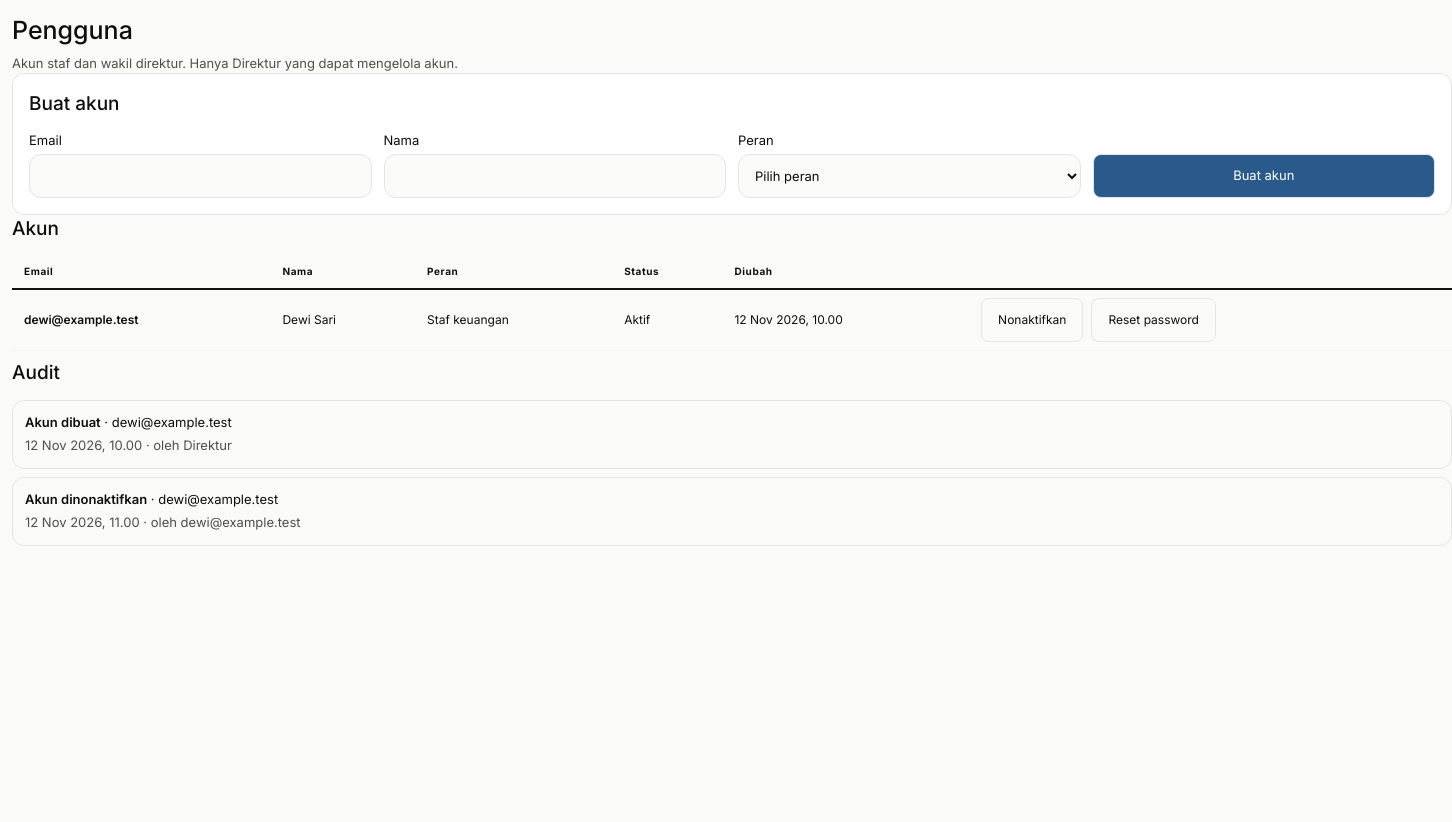
Test: user management › resets a password and shows the new temporary password once
Expected: the column heading "dewi@example.test" is shown, 12,289 -> 270,350
Step 1. Click the button "Reset password" → (1154, 320), box 1092,298 -> 1216,342
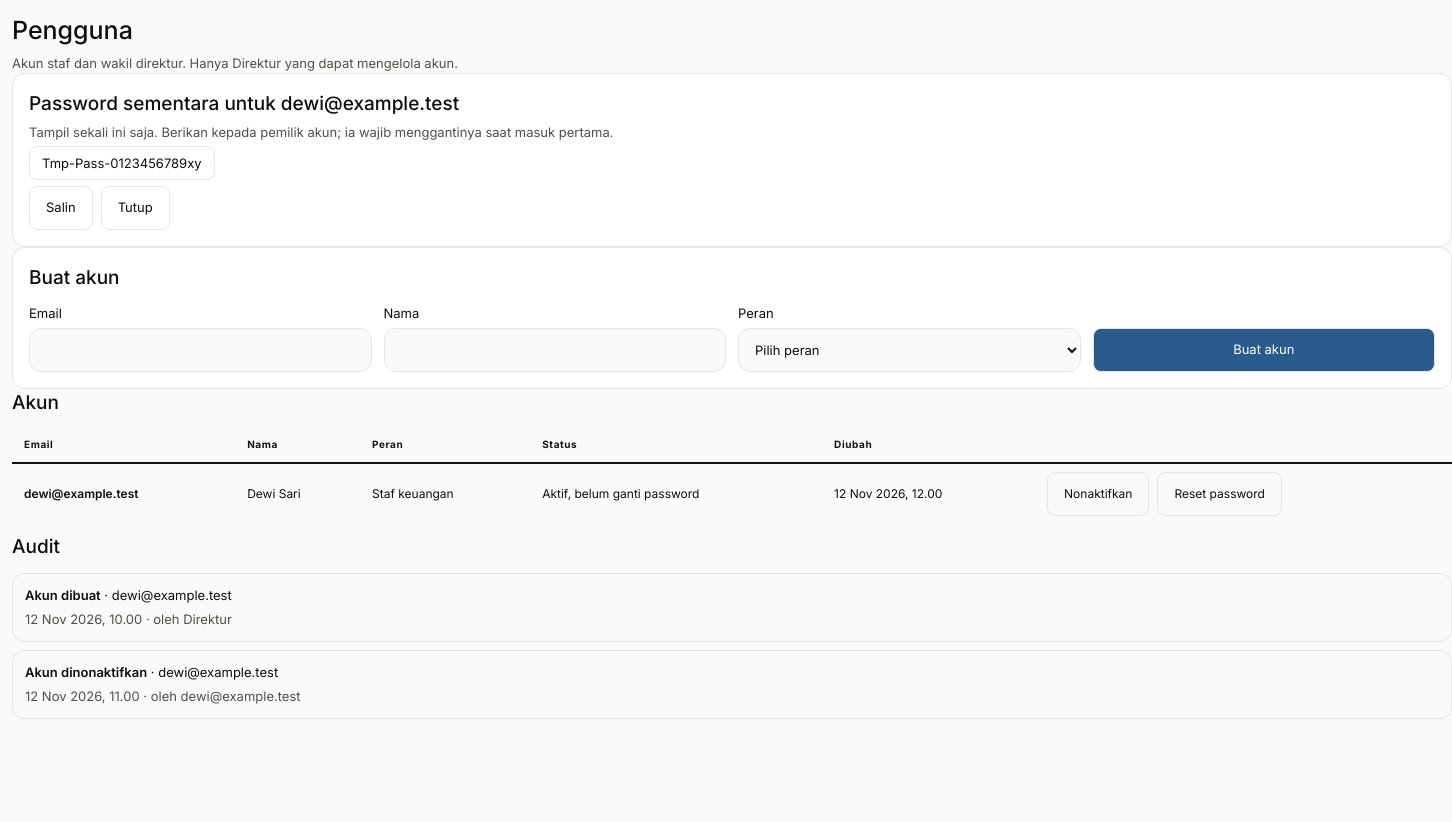
Now the text "Tmp-Pass-0123456789xy" is shown, box 29,146 -> 215,180
Now the text "Aktif, belum ganti password" is shown, box 530,462 -> 822,524
Now the text "12 Nov 2026, 12.00" is shown, box 822,462 -> 1035,524
